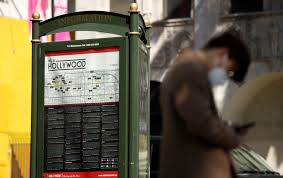mask: (196, 24, 253, 97)
